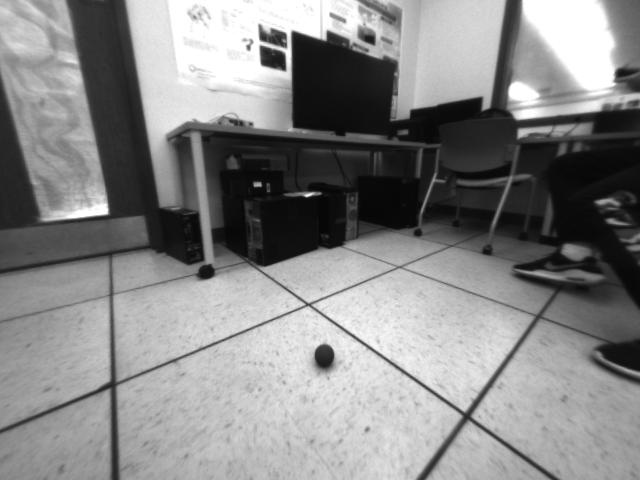dogtoy: (308, 339, 339, 375)
